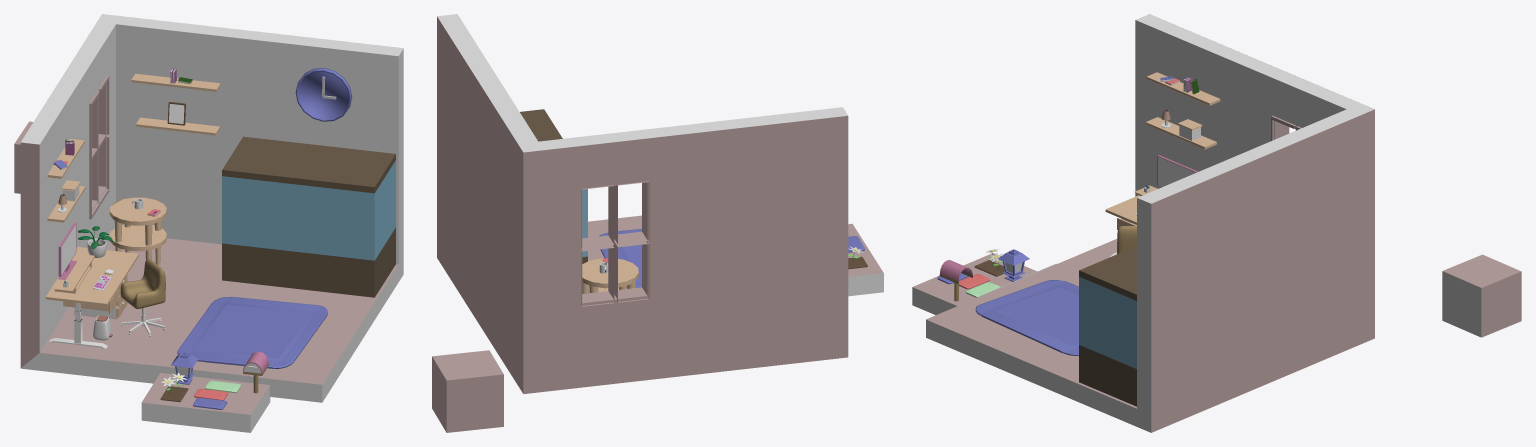
Rendered from FINALL.glb.
3 views of the same model, side by side, from view 1: azimuth 30°, elevation 25°; view 2: azimuth 150°, elevation 25°; view 3: azimuth 270°, elevation 25° (orthographic). The views are drawn at different scales.
Parts seen in each view (by area): view 1: Body, Aquaruim, Floor Items, Desks, Mini Floor, Shelves, Clock, Table Stuff, Chair, Computer, Mailbox, Lamp (+1 smaller); view 2: Body, Cube, Mini Floor, Desks, Aquaruim, Floor Items; view 3: Body, Aquaruim, Cube, Floor Items, Mini Floor, Shelves, Computer, Desks, Lamp, Mailbox.
Part boxes in pixels (x1=…): Body: x1=20, y1=14, x2=403, y2=402; Aquaruim: x1=222, y1=136, x2=395, y2=297; Floor Items: x1=74, y1=275, x2=327, y2=368; Desks: x1=45, y1=197, x2=166, y2=348; Mini Floor: x1=141, y1=373, x2=270, y2=432; Shelves: x1=47, y1=68, x2=220, y2=222; Clock: x1=295, y1=68, x2=352, y2=121; Table Stuff: x1=52, y1=198, x2=160, y2=293; Chair: x1=120, y1=258, x2=165, y2=308; Computer: x1=58, y1=222, x2=77, y2=279; Mailbox: x1=243, y1=351, x2=268, y2=393; Lamp: x1=171, y1=352, x2=198, y2=384; Body: x1=437, y1=14, x2=848, y2=394; Cube: x1=432, y1=350, x2=503, y2=432; Mini Floor: x1=848, y1=223, x2=883, y2=296; Desks: x1=582, y1=258, x2=638, y2=293; Aquaruim: x1=520, y1=109, x2=587, y2=263; Floor Items: x1=599, y1=229, x2=641, y2=287; Body: x1=926, y1=14, x2=1374, y2=432; Aquaruim: x1=1079, y1=246, x2=1136, y2=406; Cube: x1=1442, y1=254, x2=1521, y2=337; Floor Items: x1=975, y1=280, x2=1078, y2=355; Mini Floor: x1=912, y1=253, x2=1037, y2=314; Shelves: x1=1145, y1=72, x2=1220, y2=149; Computer: x1=1157, y1=155, x2=1198, y2=187; Desks: x1=1105, y1=195, x2=1140, y2=256; Lamp: x1=998, y1=249, x2=1029, y2=281; Mailbox: x1=939, y1=260, x2=972, y2=301.
Size of what is drawn, in the model's own units: 27.84 by 16.1 by 37.76.
